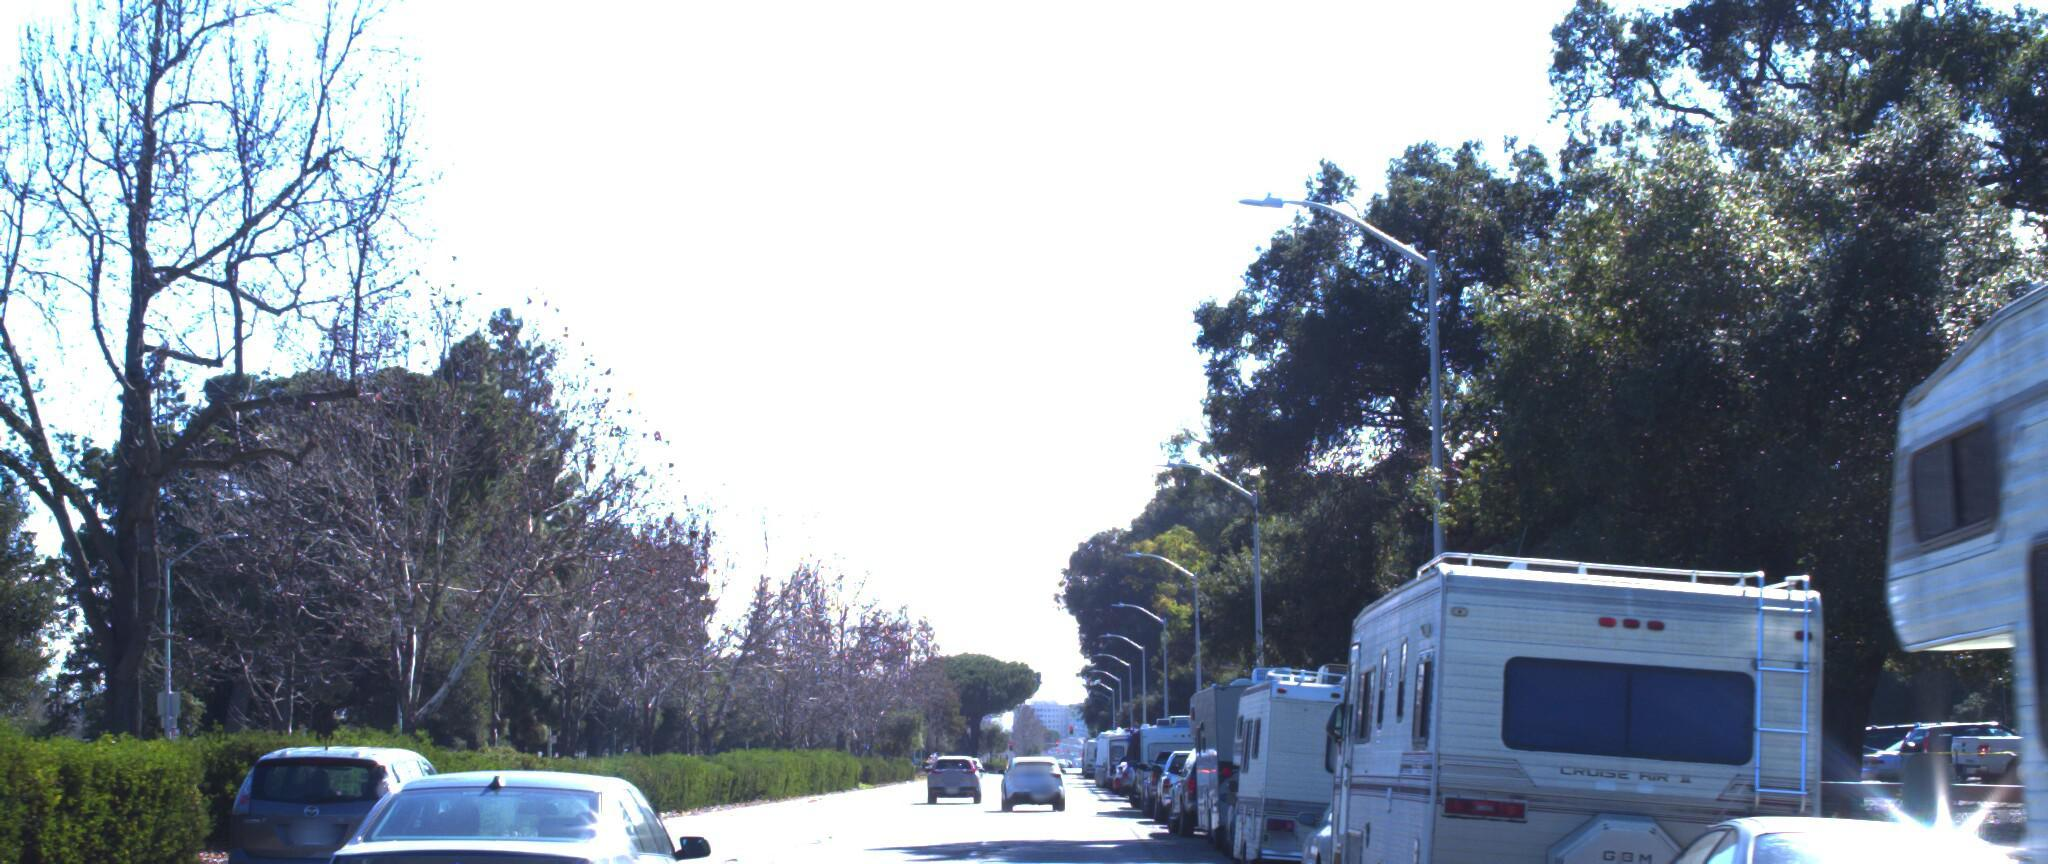car: (291, 750, 748, 864), (1526, 780, 2048, 864), (199, 711, 483, 864), (1270, 757, 1511, 864)
other_vehicle: (1752, 0, 2048, 864), (1296, 497, 1861, 864), (1207, 643, 1454, 864), (1173, 647, 1358, 842)
